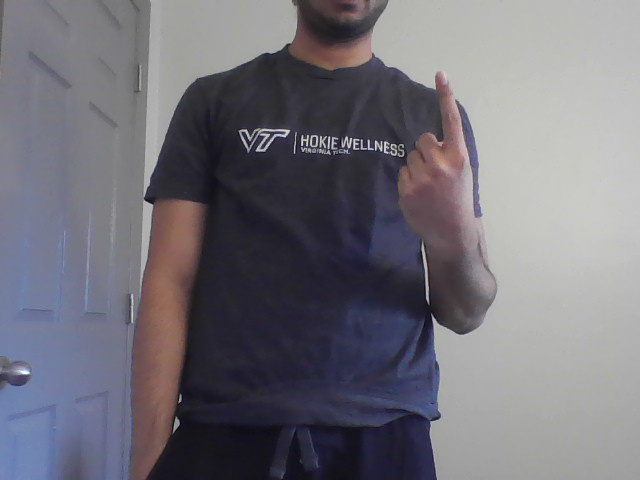one: (391, 68, 482, 226)
